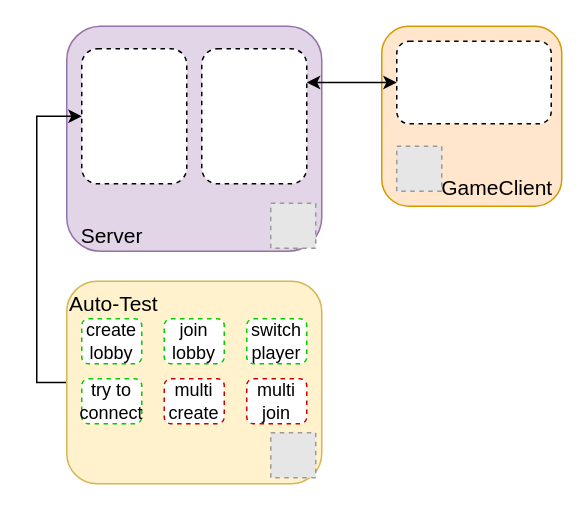
The diagram is 588 pixels wide and 510 high, and some of its shapes have lost their labels. Grey dashed boxes stand in for pictures. The shapes that lost their labels are listed below. From the top down, each one's centre as x and y in pixels, then its label:
the point at 473,82: Game Service
the point at 133,115: FastAPI Server
the point at 253,115: Socket Server
